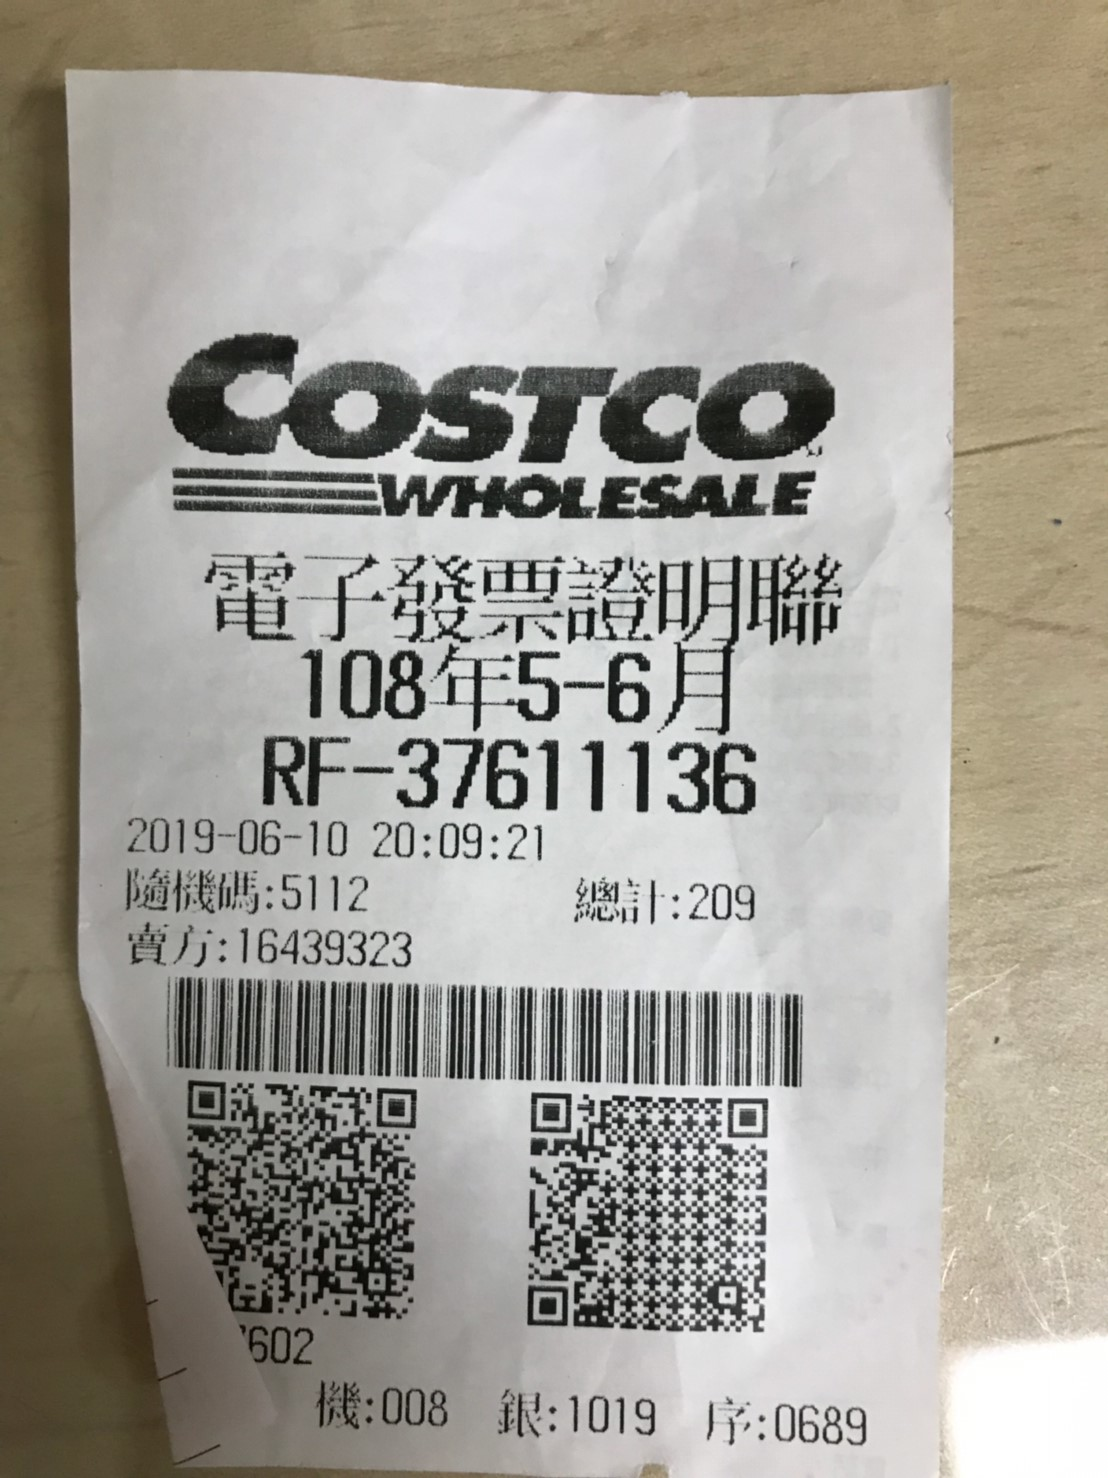Date_New: (300, 644, 736, 736)
Number_New: (393, 736, 759, 818)
